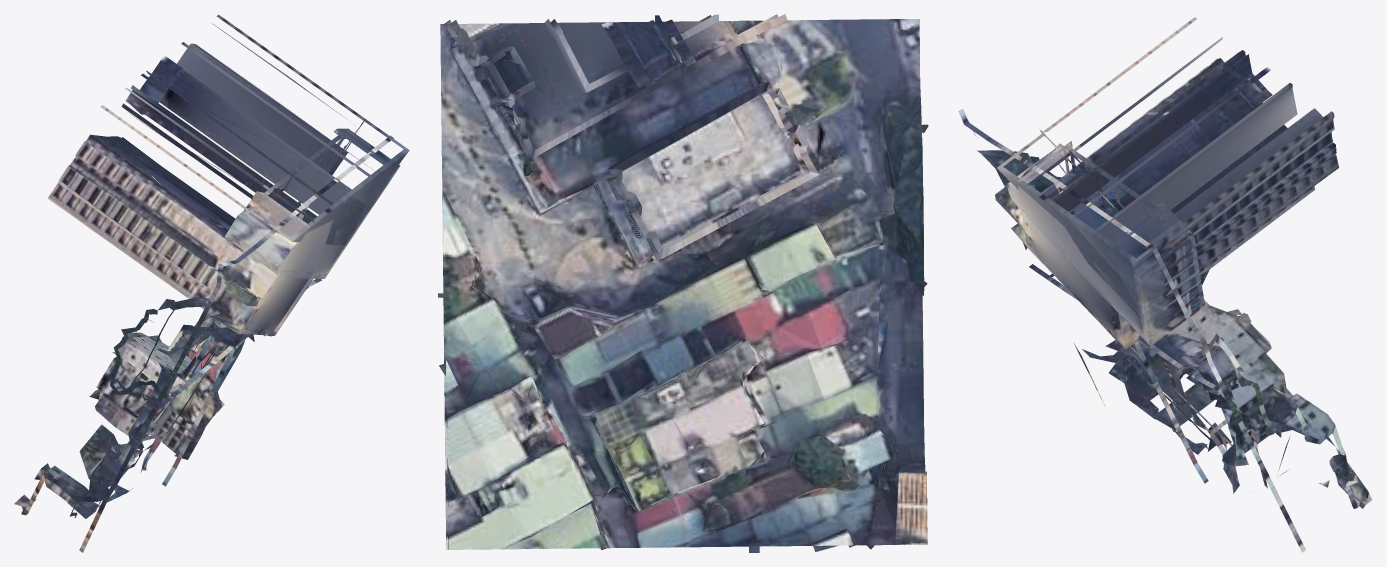
3 renders of one model, left to right at view 1: azimuth 30°, elevation 25°; view 2: azimuth 150°, elevation 25°; view 3: azimuth 270°, elevation 25°, orthographic. The views are drawn at different scales.
Size of the model in its own units: 85.63 by 88.08 by 76.
Materials: 3 (3 with a texture image).
